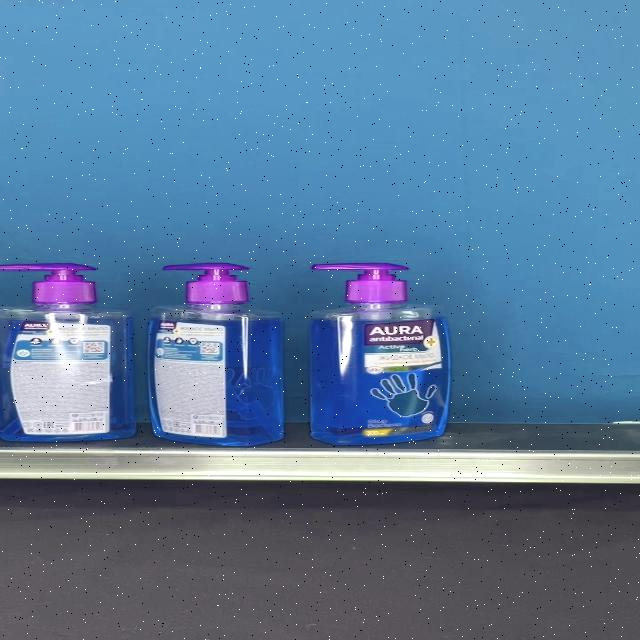Bottle: (308, 263, 451, 445), (148, 263, 283, 446), (0, 263, 136, 442)
Cap: (314, 263, 409, 305), (0, 263, 97, 304), (164, 264, 252, 306)
